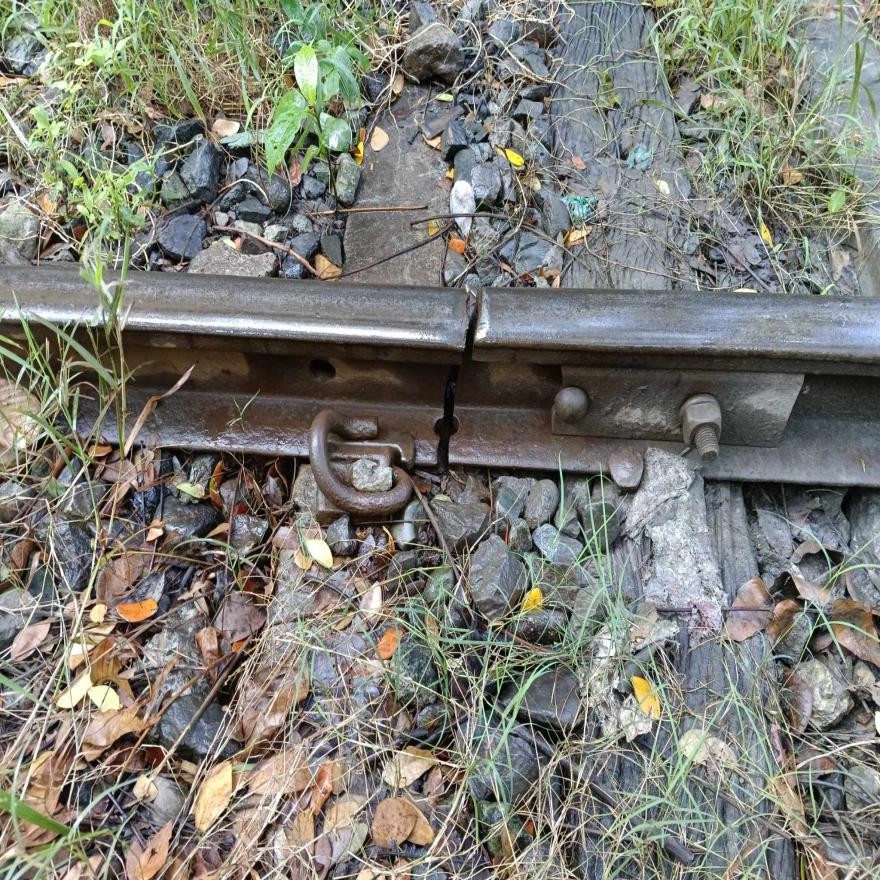railway-gap: (382, 273, 530, 477)
